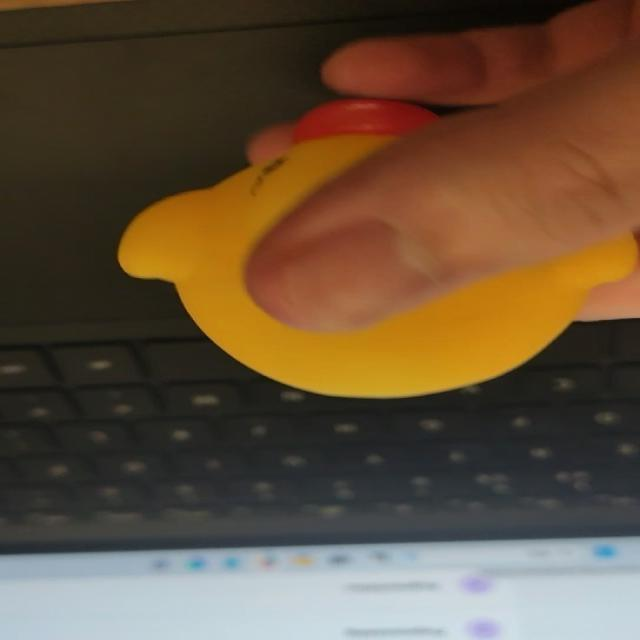rubber-duck: (117, 98, 635, 395)
